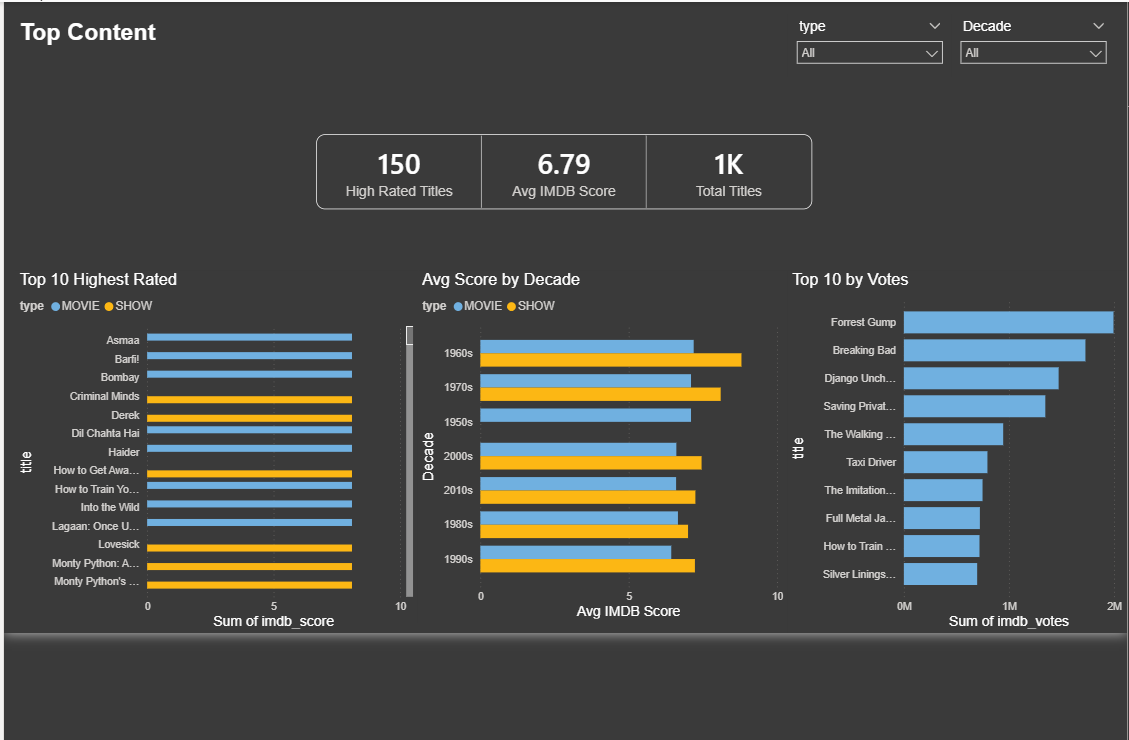

What the dashboard file says about the page in this screenshot:
{"tool":"powerbi","page":{"name":"Top Content","canvas":[1280,720],"ordinal":3},"visuals":[{"type":"textbox","box":[12.8,14.3,179.6,42.8],"z":0},{"type":"clusteredBarChart","title":"Top 10 Highest Rated","fields":{"Category":["netflix_clean.title"],"Series":["netflix_clean.type"],"Y":["Sum(netflix_clean.imdb_score)"]},"box":[12.8,306.5,459,413.4],"z":1000},{"type":"clusteredBarChart","title":"Avg Score by Decade","fields":{"Category":["netflix_clean.Decade"],"Y":["netflix_clean.Avg IMDB Score"],"Series":["netflix_clean.type"]},"box":[471.8,306.5,421.9,402],"z":2000},{"type":"cardVisual","fields":{"Data":["netflix_clean.High Rated Titles","netflix_clean.Avg IMDB Score","netflix_clean.Total Titles"]},"box":[327.8,114,674.2,142.5],"z":3000},{"type":"slicer","fields":{"Values":["netflix_clean.type"]},"box":[893.7,14.3,186.7,71.3],"z":4000},{"type":"slicer","fields":{"Values":["netflix_clean.Decade"]},"box":[1080.4,14.3,186.7,71.3],"z":5000},{"type":"clusteredBarChart","title":"Top 10 by Votes","fields":{"Category":["netflix_clean.title"],"Y":["Sum(netflix_clean.imdb_votes)"]},"box":[893.7,306.5,386.3,413.4],"z":6000}]}

Visuals, with their boxes on the page's 1280x720 design canvas (x1, y1, x2, y2). These are canvas units, not pixel positions in the 1129x740 screenshot, which may show the page scaled, cropped or inside an application window:
textbox: {"x1": 13, "y1": 14, "x2": 192, "y2": 57}
"Top 10 Highest Rated" clusteredBarChart: {"x1": 13, "y1": 306, "x2": 472, "y2": 720}
"Avg Score by Decade" clusteredBarChart: {"x1": 472, "y1": 306, "x2": 894, "y2": 708}
cardVisual - netflix_clean.High Rated Titles x netflix_clean.Avg IMDB Score: {"x1": 328, "y1": 114, "x2": 1002, "y2": 256}
slicer - netflix_clean.type: {"x1": 894, "y1": 14, "x2": 1080, "y2": 86}
slicer - netflix_clean.Decade: {"x1": 1080, "y1": 14, "x2": 1267, "y2": 86}
"Top 10 by Votes" clusteredBarChart: {"x1": 894, "y1": 306, "x2": 1280, "y2": 720}
